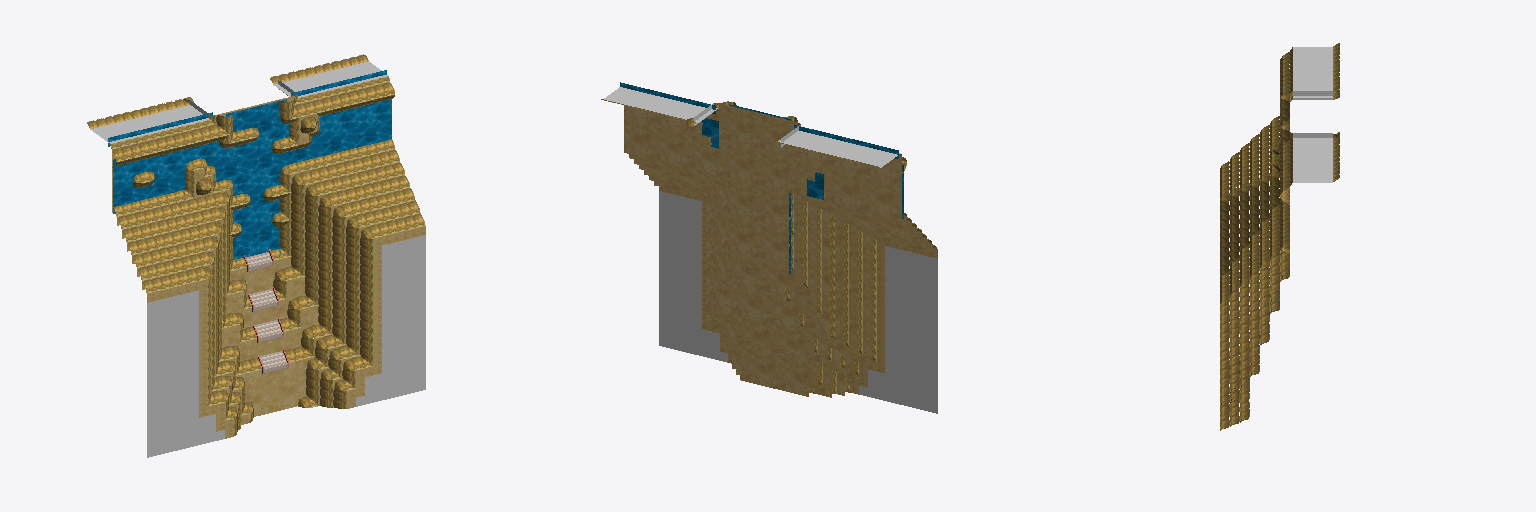
3 views of the same model, side by side, from view 1: azimuth 30°, elevation 25°; view 2: azimuth 150°, elevation 25°; view 3: azimuth 270°, elevation 25° (orthographic).
Parts seen in each view (by area): view 1: map; view 2: map; view 3: map.
Boxes of the visible parts, x1=… form: map: x1=87, y1=54, x2=425, y2=457; map: x1=601, y1=82, x2=937, y2=413; map: x1=1220, y1=43, x2=1339, y2=430.
Bounding box in the file's own units: 32 × 32 × 12.
Materials: 13 (11 with a texture image).